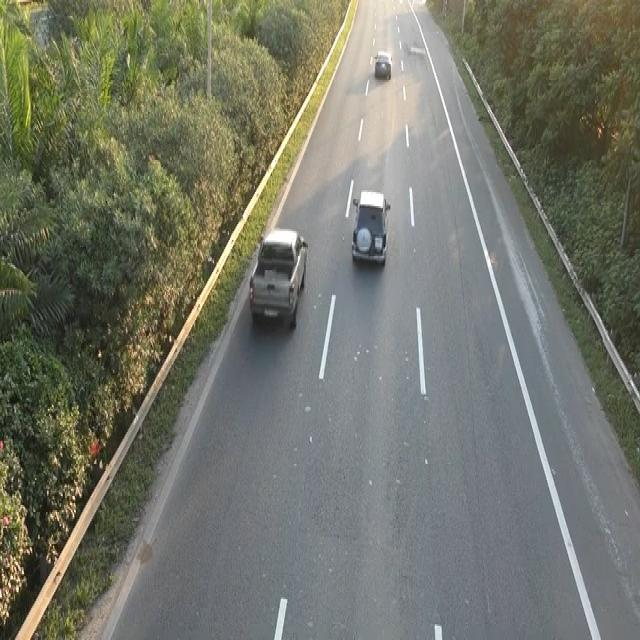car: (247, 224, 309, 329), (349, 186, 391, 266)
